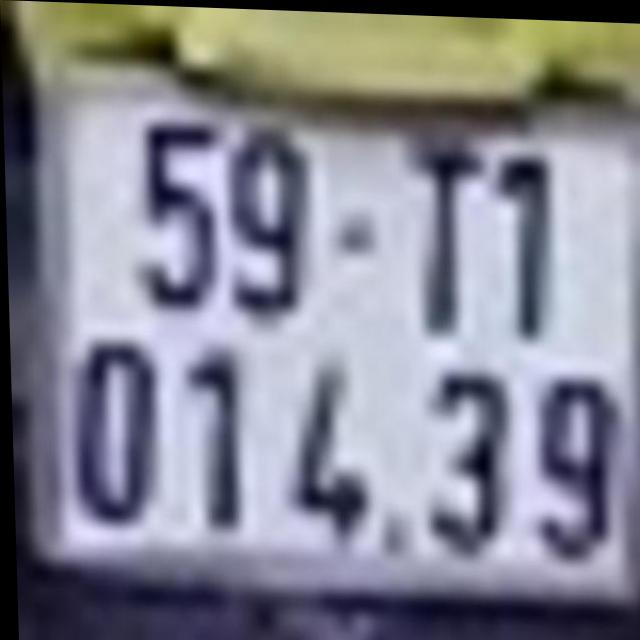0: (74, 337, 150, 520)
1: (493, 152, 555, 337), (185, 348, 238, 530)
3: (426, 371, 504, 555)
4: (290, 358, 366, 544)
5: (143, 118, 217, 303)
9: (223, 124, 303, 317), (531, 375, 609, 556)
T: (406, 141, 487, 334)
